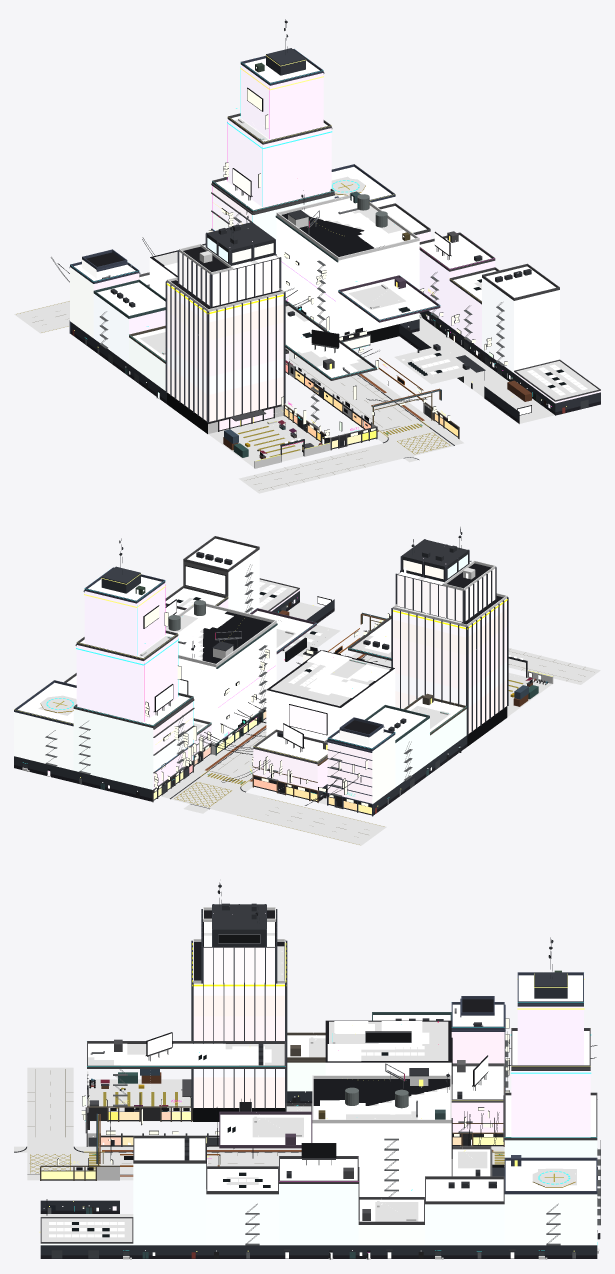
The model's file is world-phone-afterlife.glb.
3 renders of one model, top to bottom at view 1: azimuth 30°, elevation 25°; view 2: azimuth 150°, elevation 25°; view 3: azimuth 270°, elevation 25°, orthographic. The views are drawn at different scales.
Visible parts, largest first — view 1: afterlife_facade, afterlife_trim, afterlife_glow, afterlife_concrete, afterlife_asphalt, rooftop_facade_t2, afterlife_castconcrete, afterlife_sidewalk, rooftop_concrete, afterlife_steel, afterlife_board_frame, rooftop_metal (+10 smaller); view 2: afterlife_facade, afterlife_trim, afterlife_glow, afterlife_asphalt, rooftop_facade_t2, afterlife_concrete, afterlife_castconcrete, rooftop_facade_t1, afterlife_billboard, afterlife_sidewalk, afterlife_steel, afterlife_board_frame (+15 smaller); view 3: afterlife_facade, afterlife_glow, afterlife_trim, afterlife_castconcrete, afterlife_concrete, rooftop_facade_t2, afterlife_asphalt, afterlife_sidewalk, afterlife_steel, rooftop_roof_wet, afterlife_board_frame, rooftop_metal (+15 smaller).
Part boxes in pixels (box(x1,y1,x2,y2)): afterlife_facade: box(70, 64, 600, 430); afterlife_trim: box(69, 49, 600, 459); afterlife_glow: box(74, 14, 587, 444); afterlife_concrete: box(154, 118, 598, 468); afterlife_asphalt: box(14, 300, 453, 493); rooftop_facade_t2: box(276, 218, 419, 336); afterlife_castconcrete: box(70, 48, 600, 423); afterlife_sidewalk: box(140, 119, 463, 462); rooftop_concrete: box(167, 195, 419, 311); afterlife_steel: box(99, 184, 504, 428); afterlife_board_frame: box(130, 87, 542, 456); rooftop_metal: box(206, 210, 309, 265); afterlife_facade: box(14, 549, 506, 803); afterlife_trim: box(14, 536, 547, 816); afterlife_glow: box(18, 522, 523, 798); afterlife_asphalt: box(171, 648, 600, 845); rooftop_facade_t2: box(178, 626, 276, 743); afterlife_concrete: box(22, 574, 553, 804); afterlife_castconcrete: box(14, 566, 467, 815); rooftop_facade_t1: box(266, 668, 395, 741); afterlife_billboard: box(108, 566, 541, 796); afterlife_sidewalk: box(139, 629, 450, 813); afterlife_steel: box(45, 564, 412, 796); afterlife_board_frame: box(47, 565, 541, 806); afterlife_facade: box(40, 942, 597, 1245); afterlife_glow: box(43, 874, 596, 1258); afterlife_trim: box(40, 904, 597, 1258); afterlife_castconcrete: box(40, 972, 597, 1258); afterlife_concrete: box(40, 933, 599, 1259); rooftop_facade_t2: box(312, 1123, 451, 1196); afterlife_asphalt: box(17, 1067, 504, 1174); afterlife_sidewalk: box(14, 1034, 504, 1221); afterlife_steel: box(90, 934, 600, 1245); rooftop_roof_wet: box(313, 1079, 450, 1105); afterlife_board_frame: box(46, 1018, 597, 1256); rooftop_metal: box(213, 904, 428, 1076).
Size of the model in its own units: 138 by 92.67 by 177.
